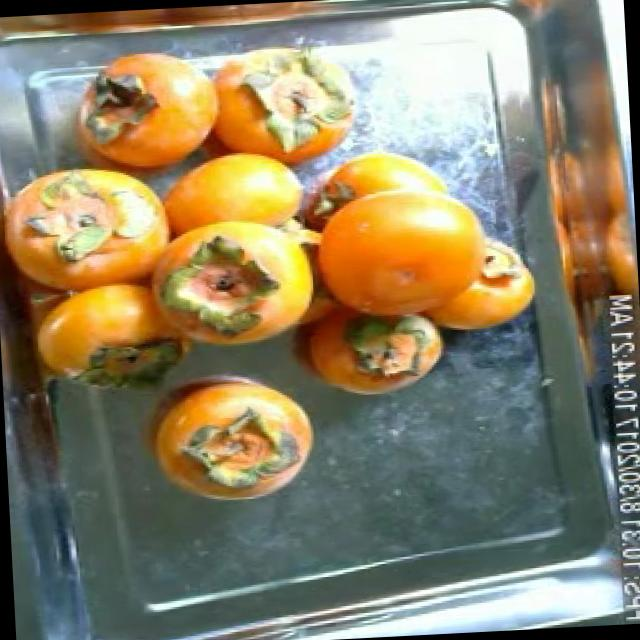Fruit: (356, 188, 550, 354), (171, 368, 330, 506), (300, 309, 458, 411)
